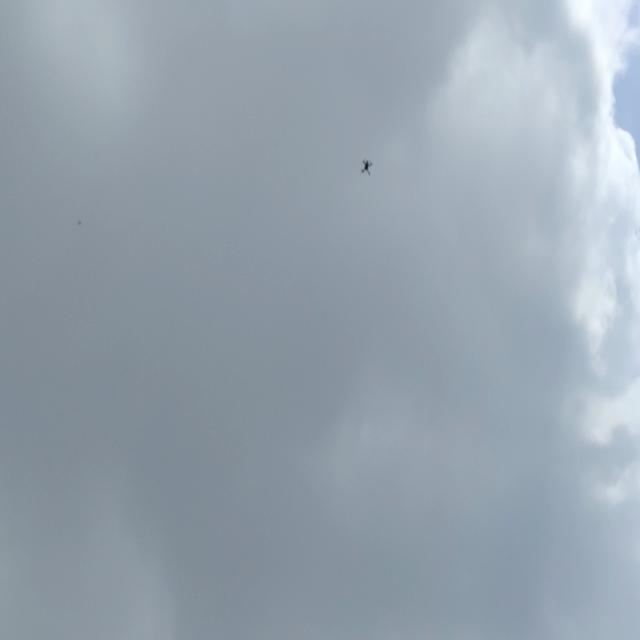drone: (357, 152, 376, 181)
